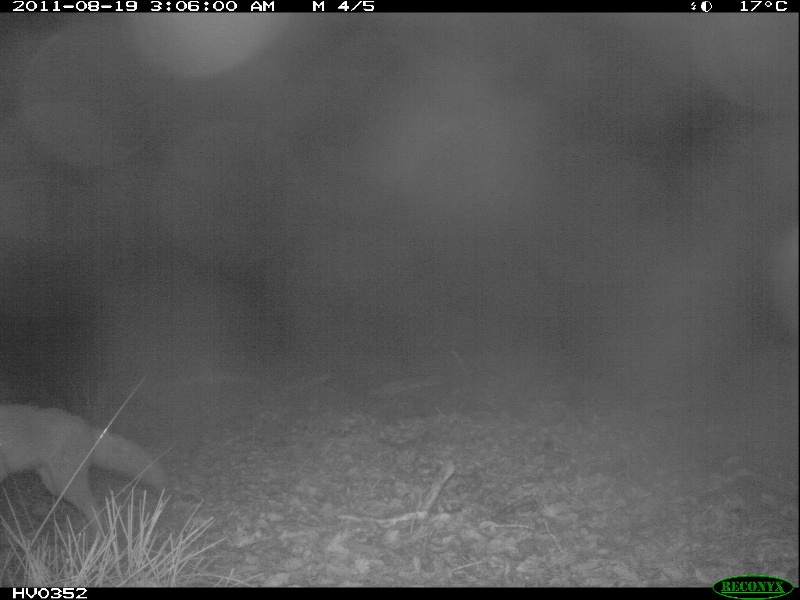fox: (1, 399, 165, 543)
